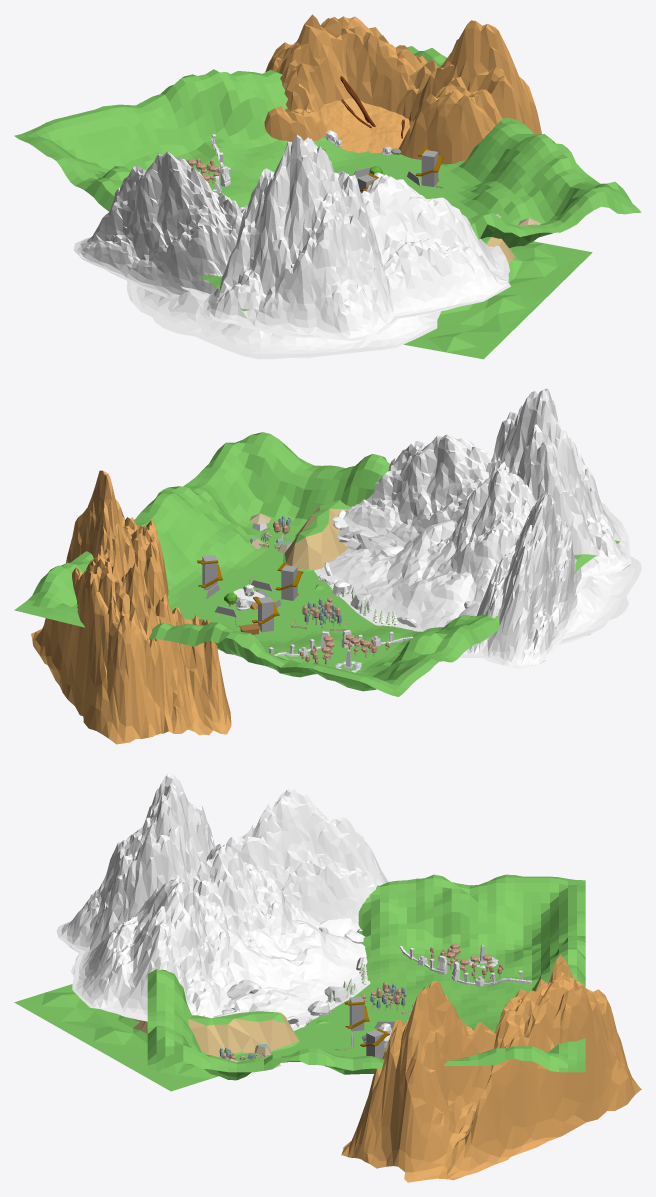
3 views of the same model, one above another, from view 1: azimuth 30°, elevation 25°; view 2: azimuth 150°, elevation 25°; view 3: azimuth 270°, elevation 25° (orthographic). The views are drawn at different scales.
Parts seen in each view (by area): view 1: Terrain, Ice_Mountain__3_, Mounting_2, Ice_Mountain__4_, Ice_Mountain__2_, Terrain_1.001, Ice_Mountain, Environment_1, Cube; view 2: Terrain, Mounting_2, Ice_Mountain, Ice_Mountain__4_, Ice_Mountain__3_, Ice_Mountain__2_, Ice_Mountain__1_, Terrain_1.001, Cube_1; view 3: Terrain, Mounting_2, Ice_Mountain__2_, Ice_Mountain__4_, Ice_Mountain__3_, Terrain_1.001, Ice_Mountain, Ice_Mountain__1_.
Part boxes in pixels (x1=…): Terrain: x1=14, y1=46, x2=641, y2=311; Ice_Mountain__3_: x1=203, y1=134, x2=399, y2=340; Mounting_2: x1=264, y1=14, x2=541, y2=164; Ice_Mountain__4_: x1=73, y1=151, x2=242, y2=299; Ice_Mountain__2_: x1=362, y1=174, x2=510, y2=318; Terrain_1.001: x1=404, y1=237, x2=592, y2=359; Ice_Mountain: x1=127, y1=281, x2=440, y2=359; Environment_1: x1=320, y1=98, x2=410, y2=153; Cube: x1=421, y1=150, x2=438, y2=186; Terrain: x1=14, y1=432, x2=619, y2=696; Mounting_2: x1=31, y1=470, x2=231, y2=744; Ice_Mountain: x1=314, y1=520, x2=641, y2=657; Ice_Mountain__4_: x1=467, y1=492, x2=581, y2=668; Ice_Mountain__3_: x1=486, y1=388, x2=631, y2=576; Ice_Mountain__2_: x1=343, y1=434, x2=491, y2=547; Ice_Mountain__1_: x1=427, y1=468, x2=592, y2=604; Terrain_1.001: x1=283, y1=500, x2=350, y2=590; Cube_1: x1=281, y1=565, x2=297, y2=600; Terrain: x1=147, y1=874, x2=585, y2=1080; Mounting_2: x1=341, y1=955, x2=641, y2=1182; Ice_Mountain__2_: x1=72, y1=877, x2=238, y2=1021; Ice_Mountain__4_: x1=226, y1=788, x2=388, y2=931; Ice_Mountain__3_: x1=56, y1=773, x2=215, y2=953; Terrain_1.001: x1=14, y1=984, x2=330, y2=1091; Ice_Mountain: x1=71, y1=919, x2=370, y2=1030; Ice_Mountain__1_: x1=198, y1=844, x2=321, y2=953.
Size of what is drawn, in the model's own units: 235 by 108 by 269.
